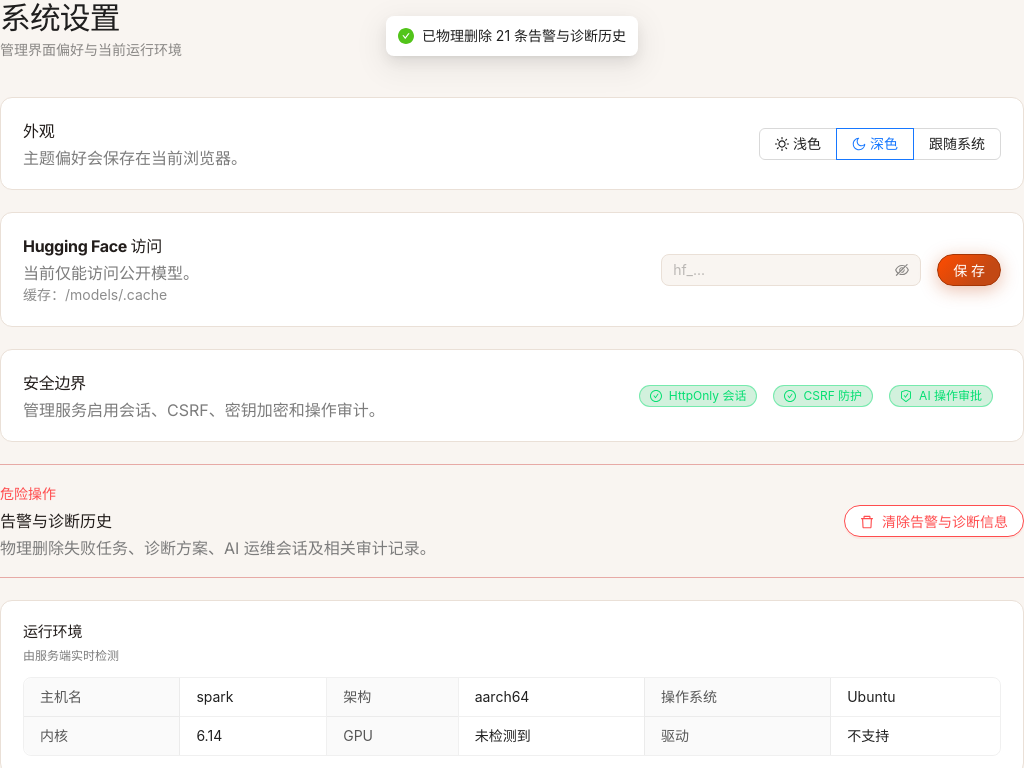
Test case: SettingsPage physical history clear › keeps the dialog open and shows a conflict reason
This screenshot has width=1024, height=768.
Click the button "清除告警与诊断信息" at point(934, 521), box [844,505,1023,537]
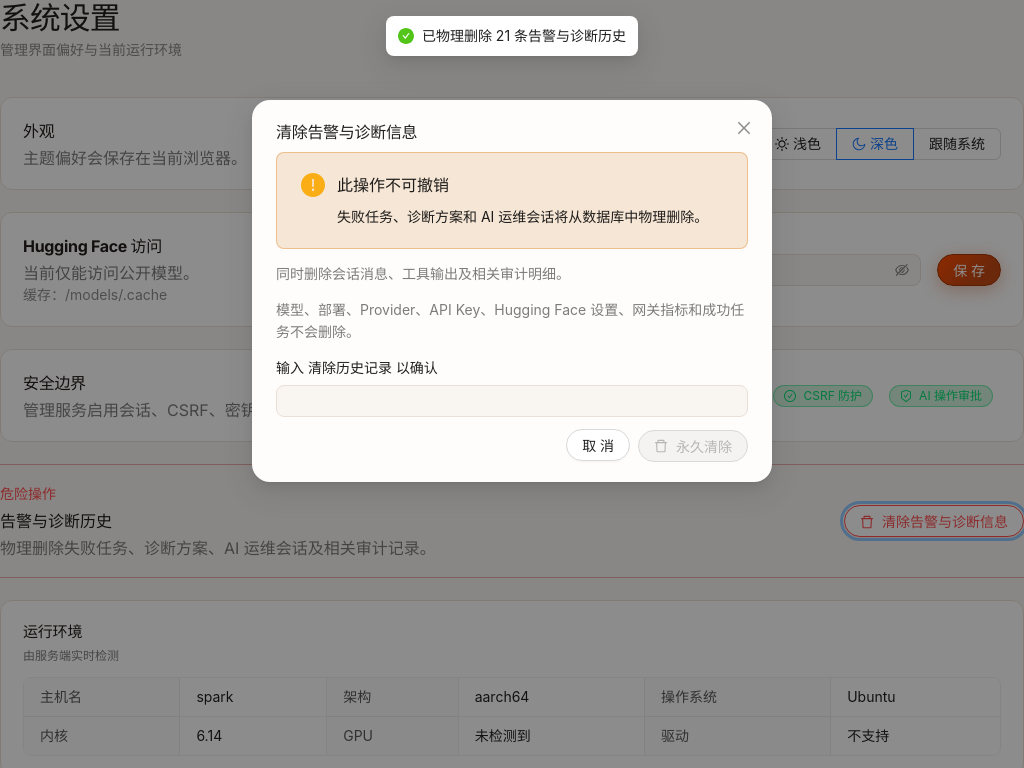
Type "清除历史记录" into the field named "输入确认短语" at point(512, 401), box [276,385,748,417]
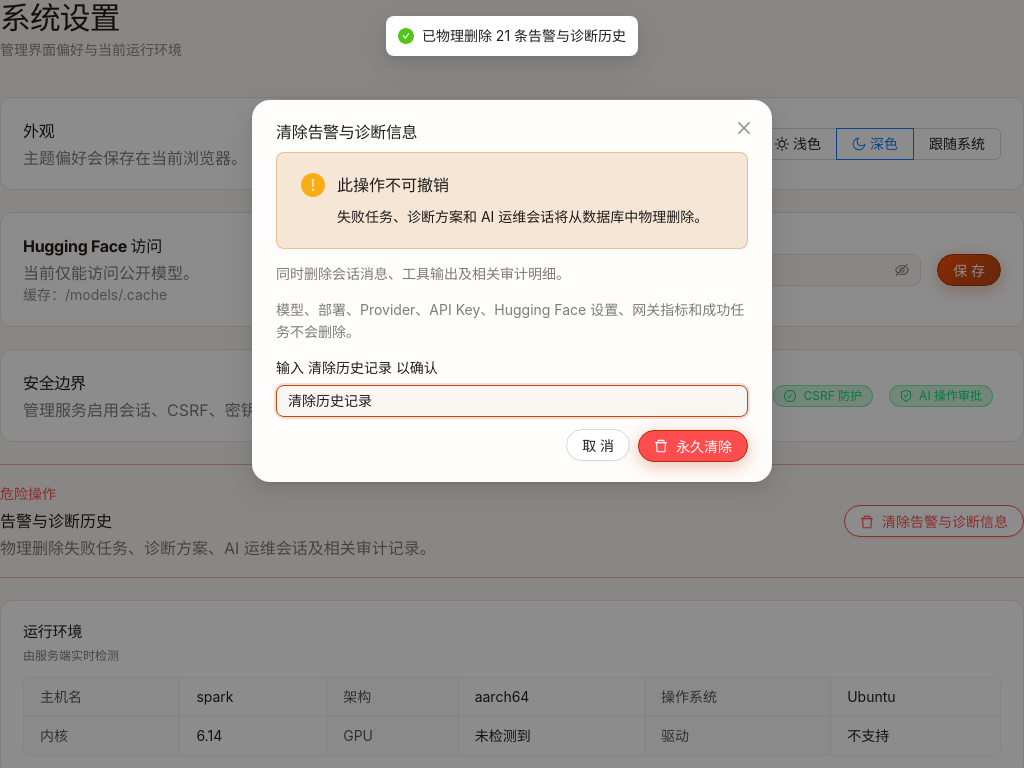
Click the button "永久清除" at point(693, 446), box [638,430,748,462]
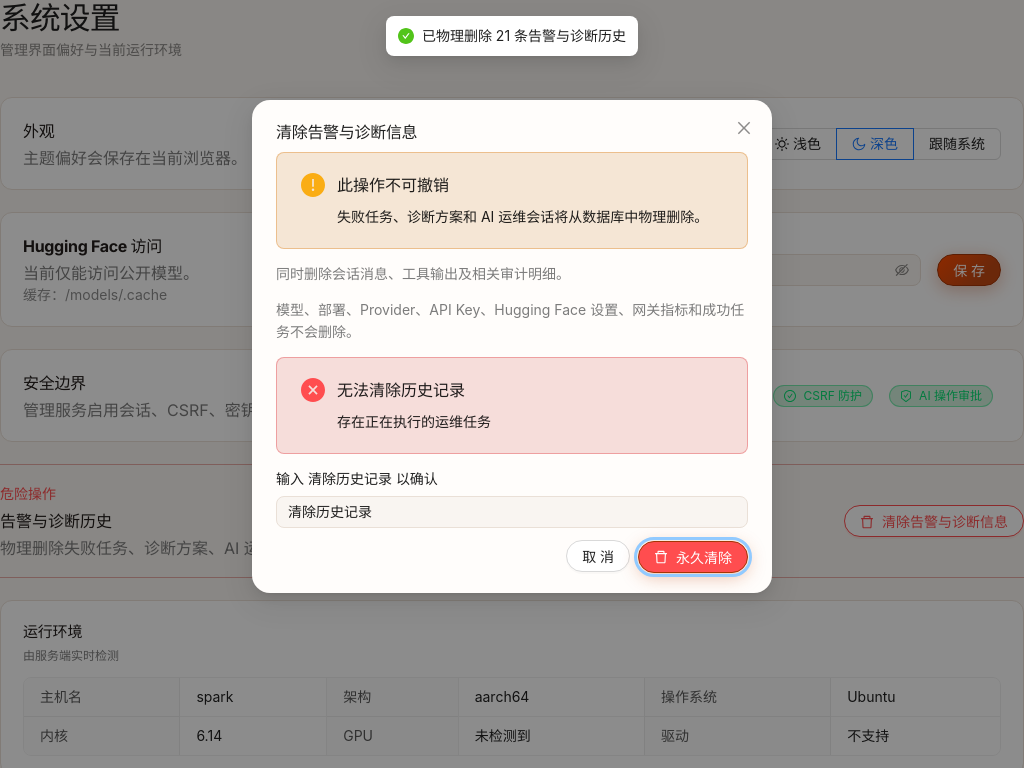
expect the dialog "清除告警与诊断信息" is shown: met, box [252,100,772,617]
expect the text "存在正在执行的运维任务" is shown: met, box [337,413,491,430]
